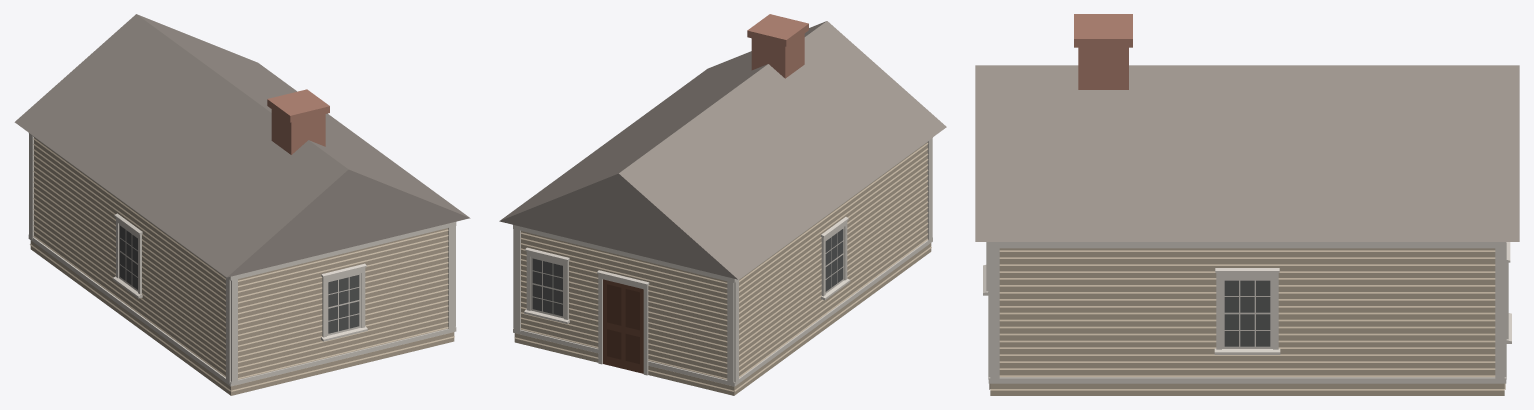
File: inf_bakery_lake__inferred_1835.glb
3 views of the same model, side by side, from view 1: azimuth 30°, elevation 25°; view 2: azimuth 150°, elevation 25°; view 3: azimuth 270°, elevation 25° (orthographic). The views are drawn at different scales.
Parts seen in each view (by area): view 1: inf_bakery_lake__inferred_1835; view 2: inf_bakery_lake__inferred_1835; view 3: inf_bakery_lake__inferred_1835.
Boxes of the visible parts, x1,y1,x2,y2 form: inf_bakery_lake__inferred_1835: (14,14,470,395); inf_bakery_lake__inferred_1835: (499,14,946,395); inf_bakery_lake__inferred_1835: (975,14,1519,395).
Size of the model in its own units: 5.99 by 5.49 by 9.03.
